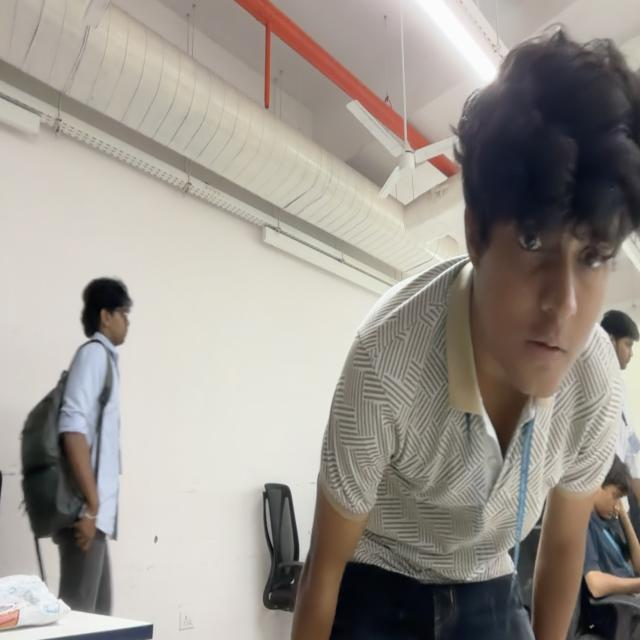kshitij: (457, 33, 640, 397)
